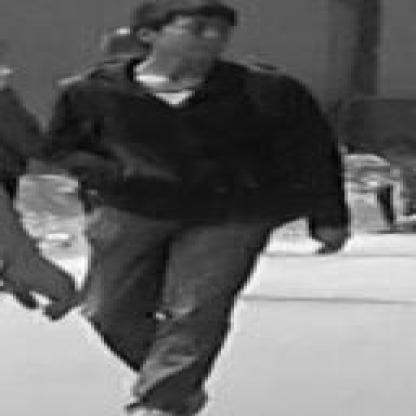adult: (78, 1, 355, 416)
